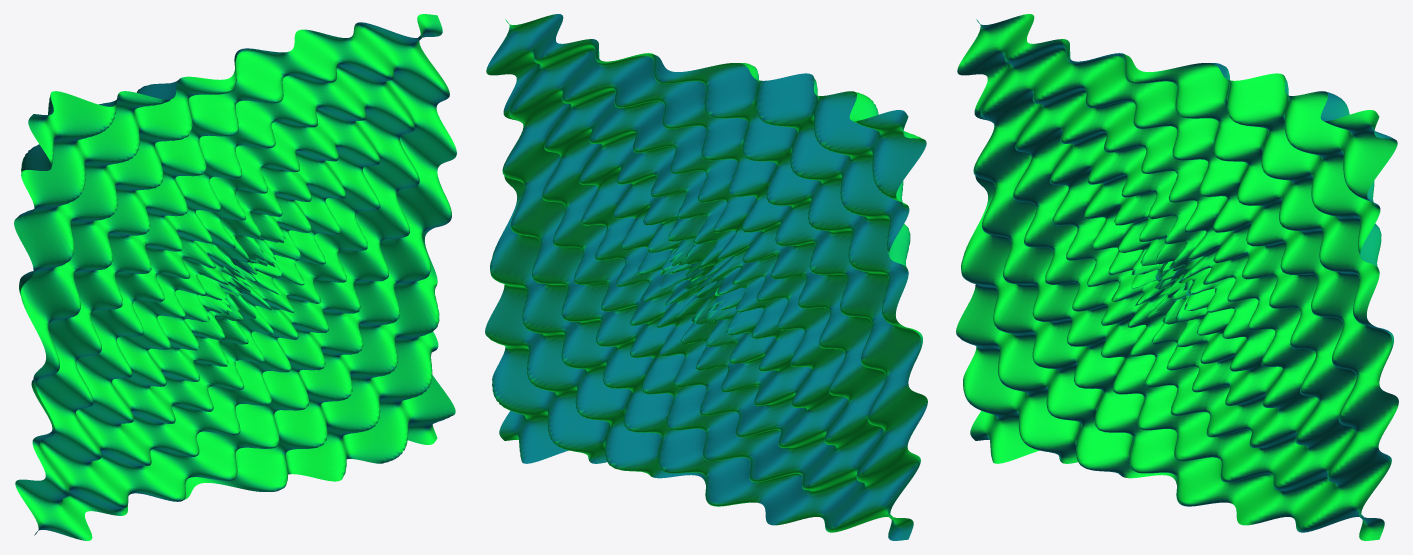
File: uuon-radial-moire-wave.glb
3 renders of one model, left to right at view 1: azimuth 30°, elevation 25°; view 2: azimuth 150°, elevation 25°; view 3: azimuth 330°, elevation 25°, orthographic.
Size of the model in its own units: 12 by 12 by 2.
